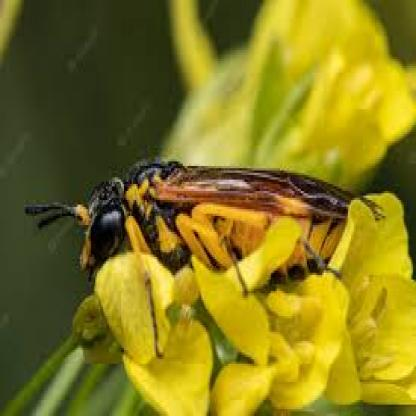sawfly: (19, 151, 396, 355)
